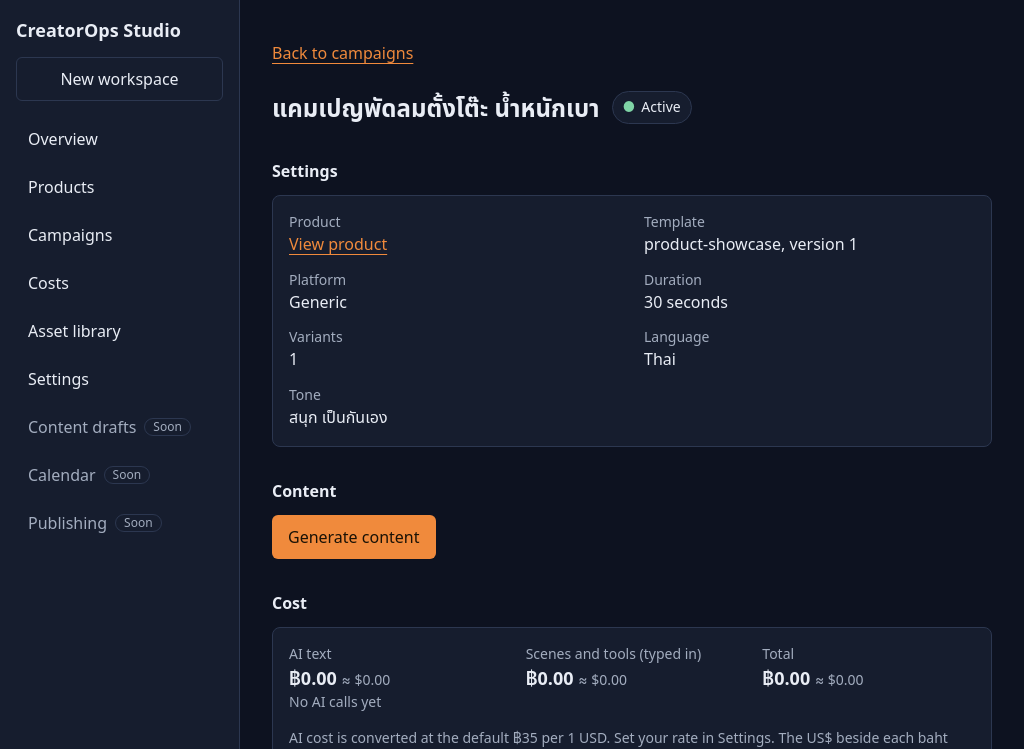
Test case: CampaignPage › after a network failure, the retry reuses the SAME key and does not make a second job
The width and height of the screenshot is (1024, 749).
Click the button "Generate content". click: (354, 537)
box: [272,515,436,559]
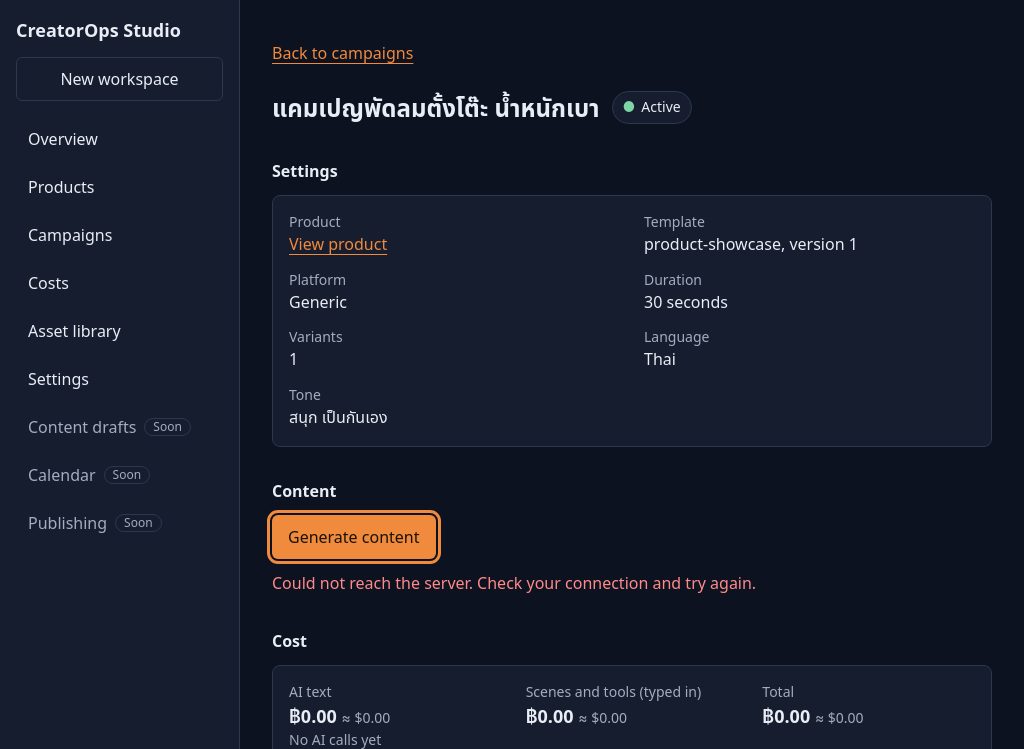
Now the text "Could not reach the server. Check your connection and try again." is shown, box [272,572,756,594]
Click the button "Generate content". click: (354, 537)
box: [272,515,436,559]
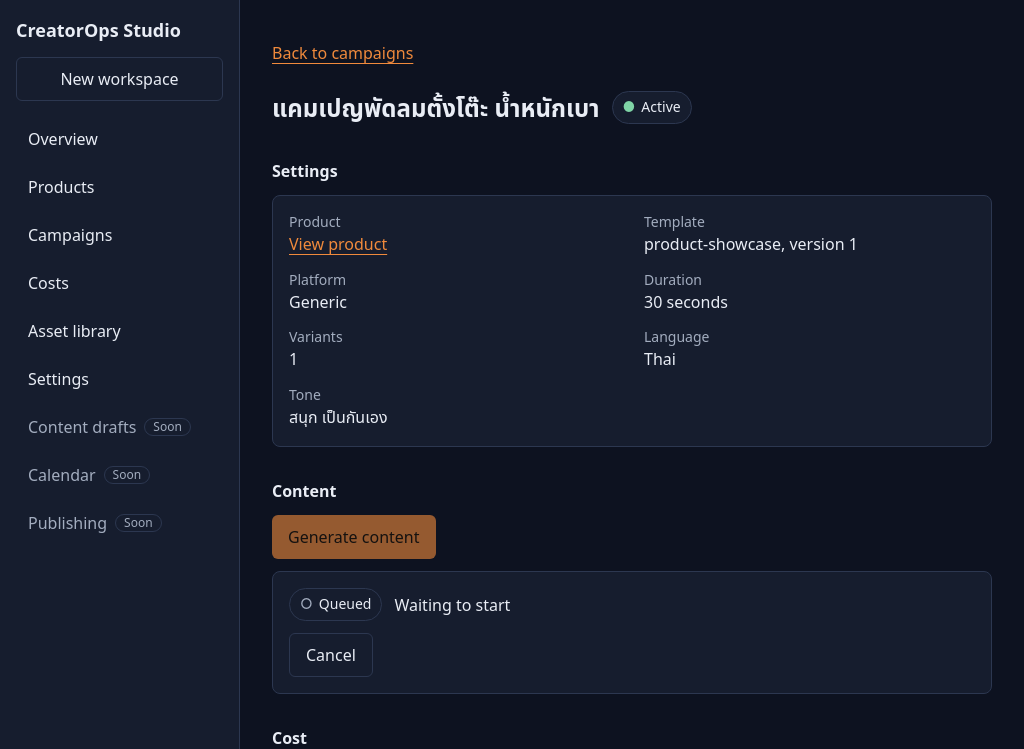
Now the text "Waiting to start" is shown, box [394,592,510,618]
